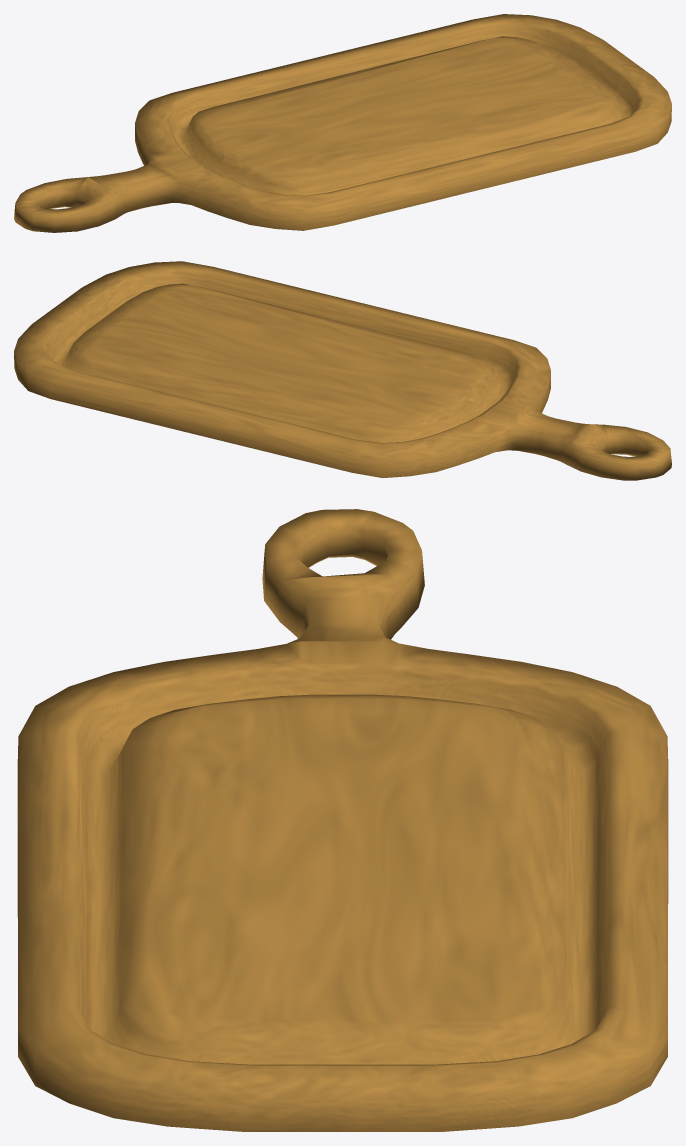
File: cuttingboard.glb
3 views of the same model, one above another, from view 1: azimuth 30°, elevation 25°; view 2: azimuth 150°, elevation 25°; view 3: azimuth 270°, elevation 25° (orthographic). The views are drawn at different scales.
Parts seen in each view (by area): view 1: cuttingboard; view 2: cuttingboard; view 3: cuttingboard.
Part boxes in pixels (x1,y1,x2,y2): cuttingboard: (14, 14, 671, 232); cuttingboard: (14, 261, 671, 480); cuttingboard: (17, 509, 668, 1131).
Bounding box in the file's own units: 7.14 × 0.3579 × 3.3.
1 material, 1 textured.
